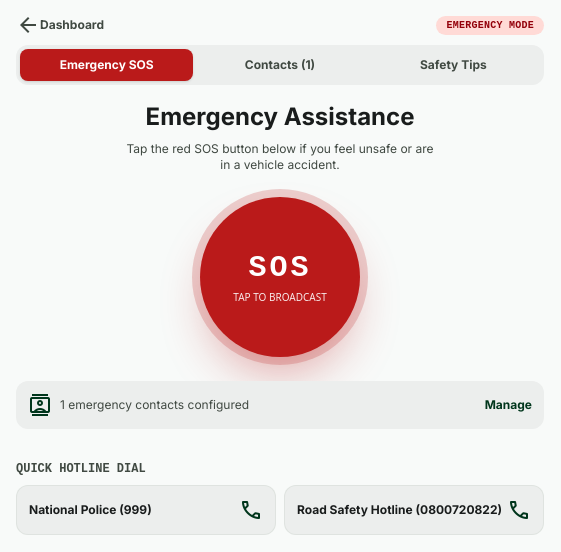
Test case: DATA-002: Emergency SOS Contacts Real Data & Zero Hardcoded Fake Profiles › CRIT-01: Emergency SOS Real GPS & Active Trip Context Verification › transmits real GPS and active trip store data in sendSOS payload instead of hardcoded values
Note: Trigger SOS
Click the button "SOS Tap to Broadcast".
click(280, 277)  # box [200,197,360,357]
Wait 4000 ms
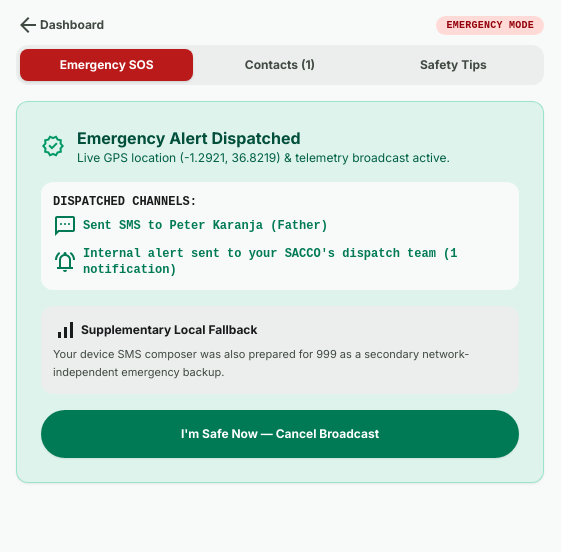
Now the heading "Emergency Alert Dispatched" is shown, box [77,128,300,148]
Now the text "Sent SMS to Peter Karanja (Father)" is shown, box [53,212,328,240]
